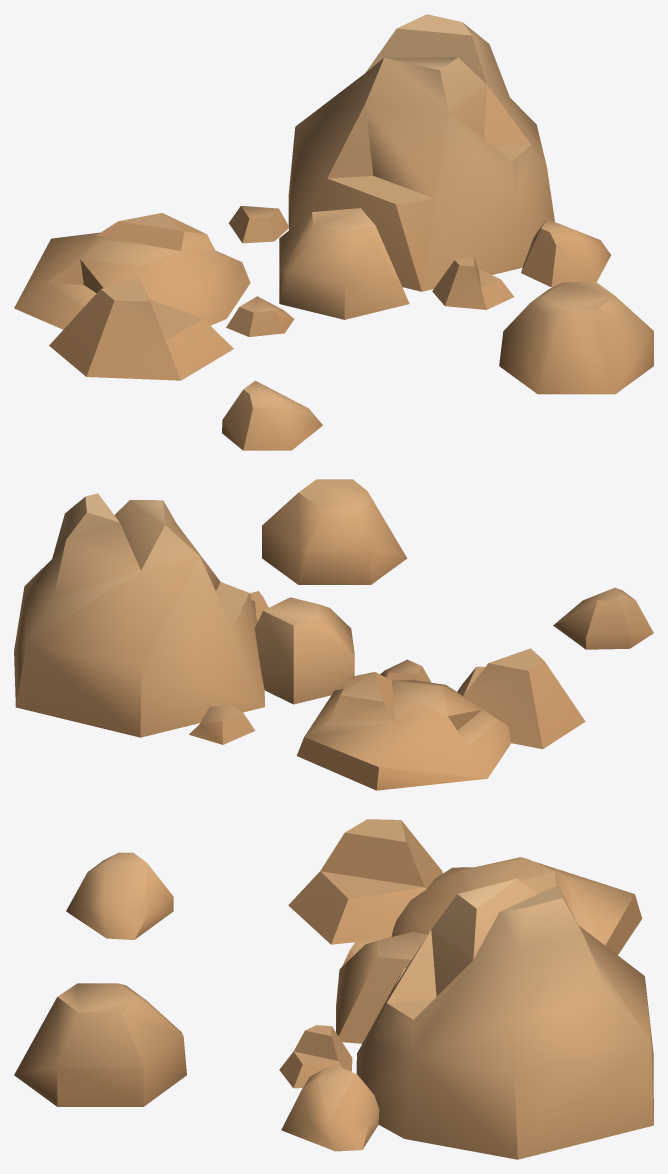
Rendered from rock.glb.
3 views of the same model, one above another, from view 1: azimuth 30°, elevation 25°; view 2: azimuth 150°, elevation 25°; view 3: azimuth 270°, elevation 25° (orthographic). The views are drawn at different scales.
Parts seen in each view (by area): view 1: rock_A; view 2: rock_A; view 3: rock_A.
Boxes of the visible parts, x1,y1,x2,y2 form: rock_A: (14,14,653,450); rock_A: (14,479,653,790); rock_A: (14,819,653,1159).
Size of the model in its own units: 3.2 by 1.07 by 2.97.
Materials: 1 (1 with a texture image).
